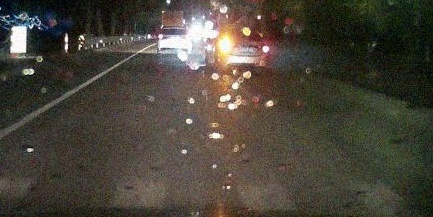L_light: (218, 39, 236, 47), (158, 35, 168, 39)
R_light: (254, 44, 270, 53), (178, 35, 188, 39)
T_light: (239, 27, 251, 29), (172, 27, 179, 28)
night-left: (215, 26, 271, 74)
night-no: (157, 26, 190, 54)
